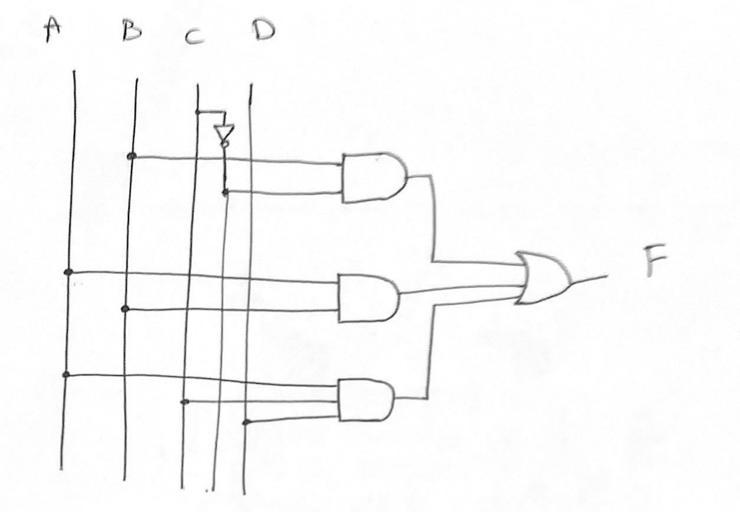AND: (333, 137, 416, 221), (324, 261, 410, 337), (322, 373, 405, 432)
NOT: (211, 121, 244, 152)
OR: (506, 241, 581, 318)
